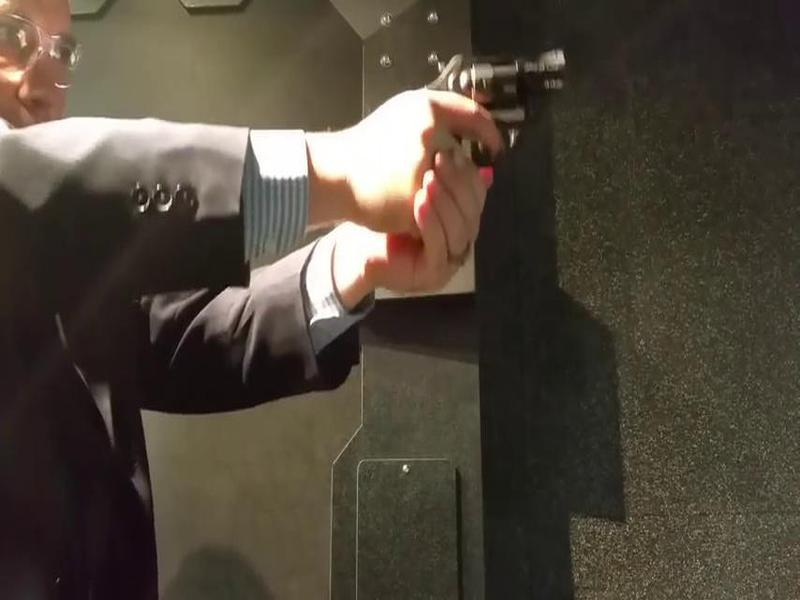Revolver: (395, 26, 588, 213)
